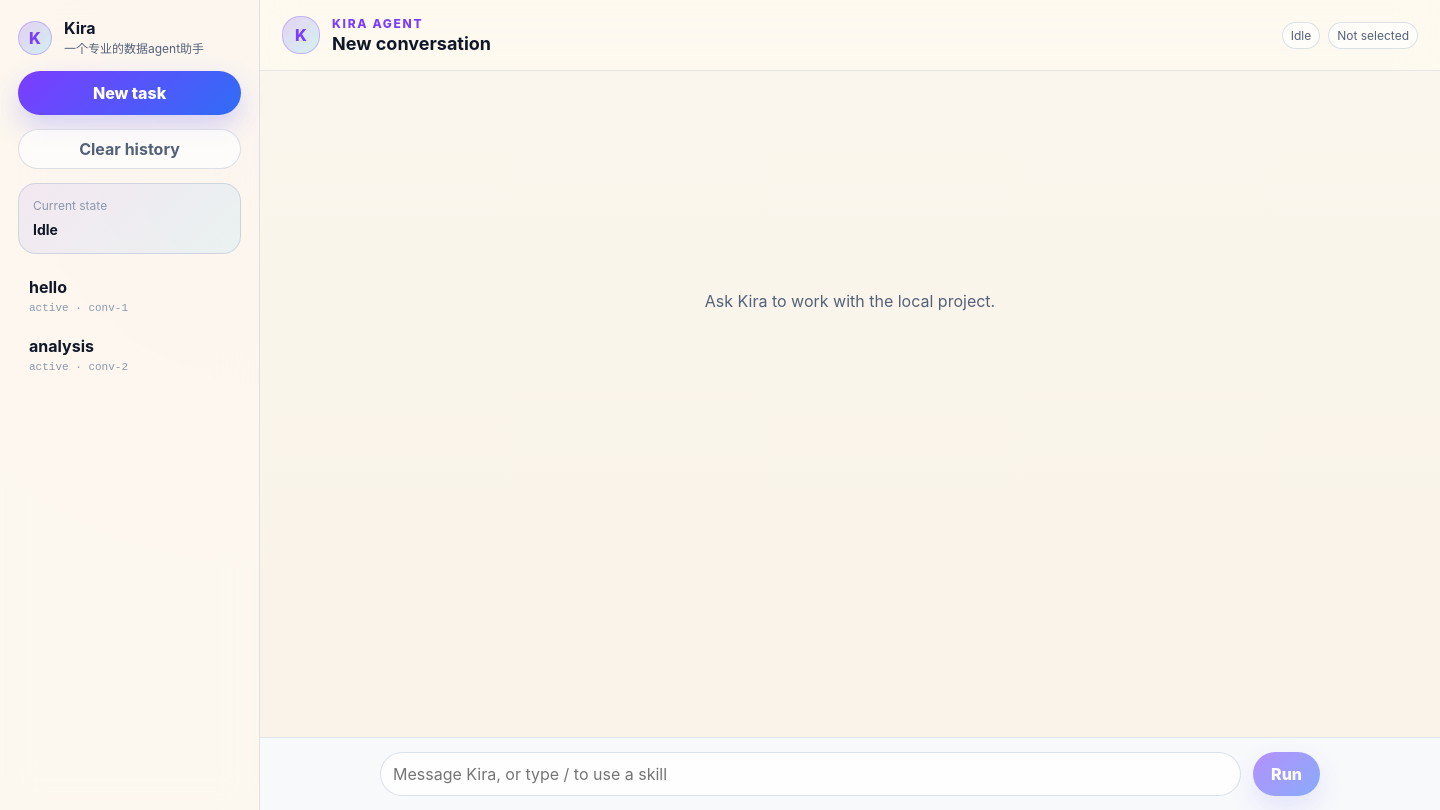
Test: AgentWorkbench › clears saved conversations by archiving active history
Click the button with aria-label "Select task hello" at (112, 296), box top-left (18, 268), bottom-right (207, 323)
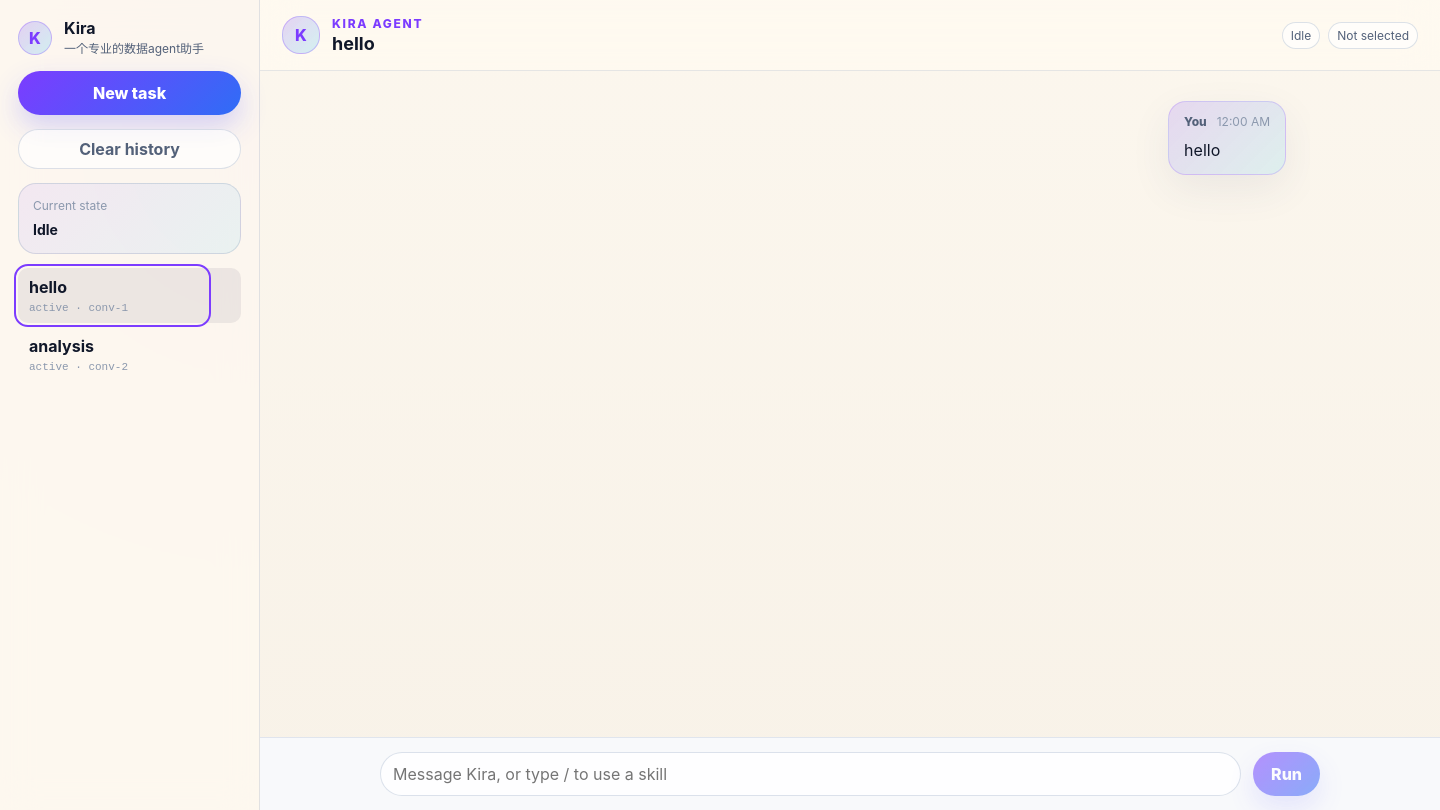
Result: the element with test id "transcript-user-row" is shown at top-left (1168, 101), bottom-right (1286, 175)
Click the button "Clear history" at (130, 149), box top-left (18, 129), bottom-right (241, 169)
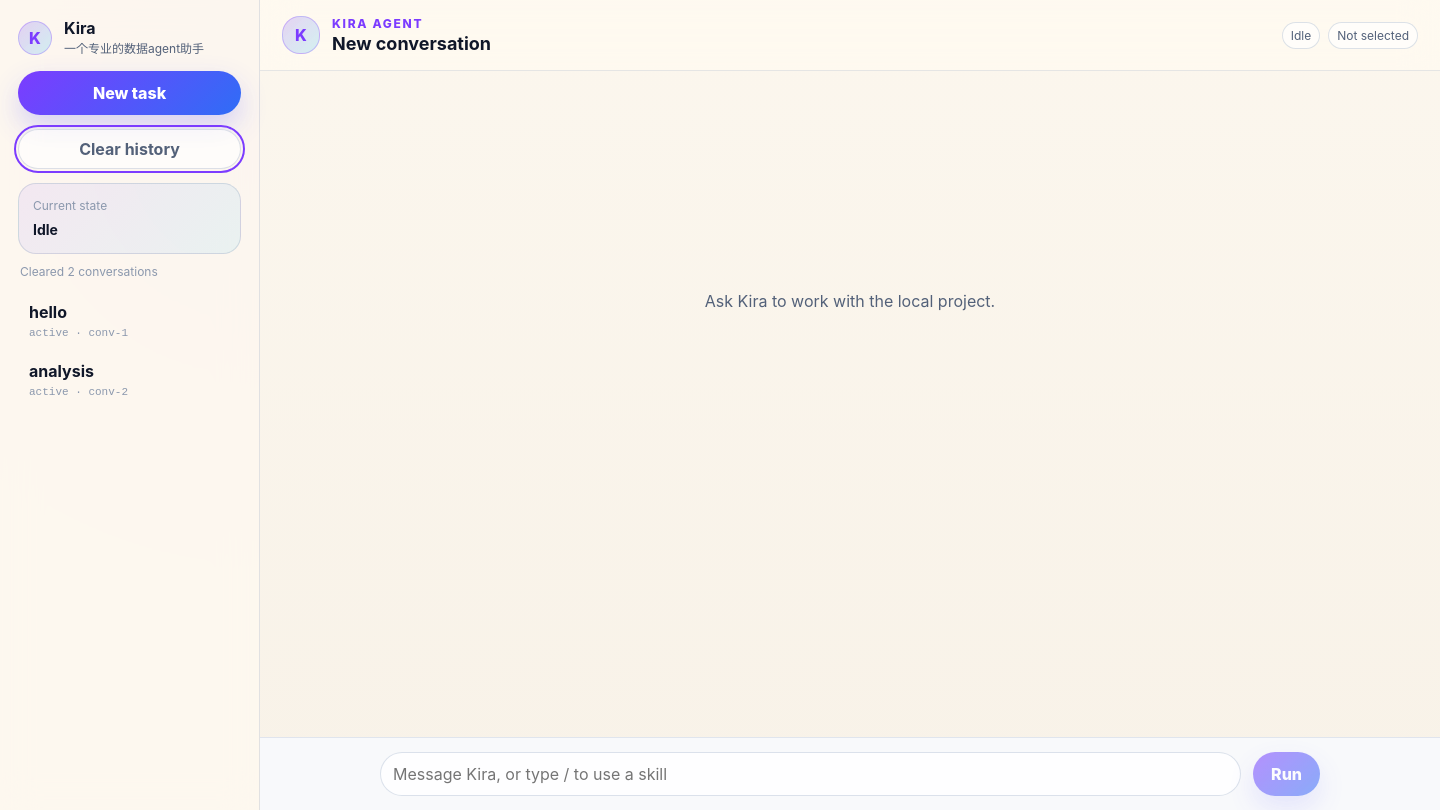
Result: the element with test id "transcript-user-row" is gone
Result: the text "Cleared 2 conversations" is shown at top-left (20, 264), bottom-right (158, 279)
